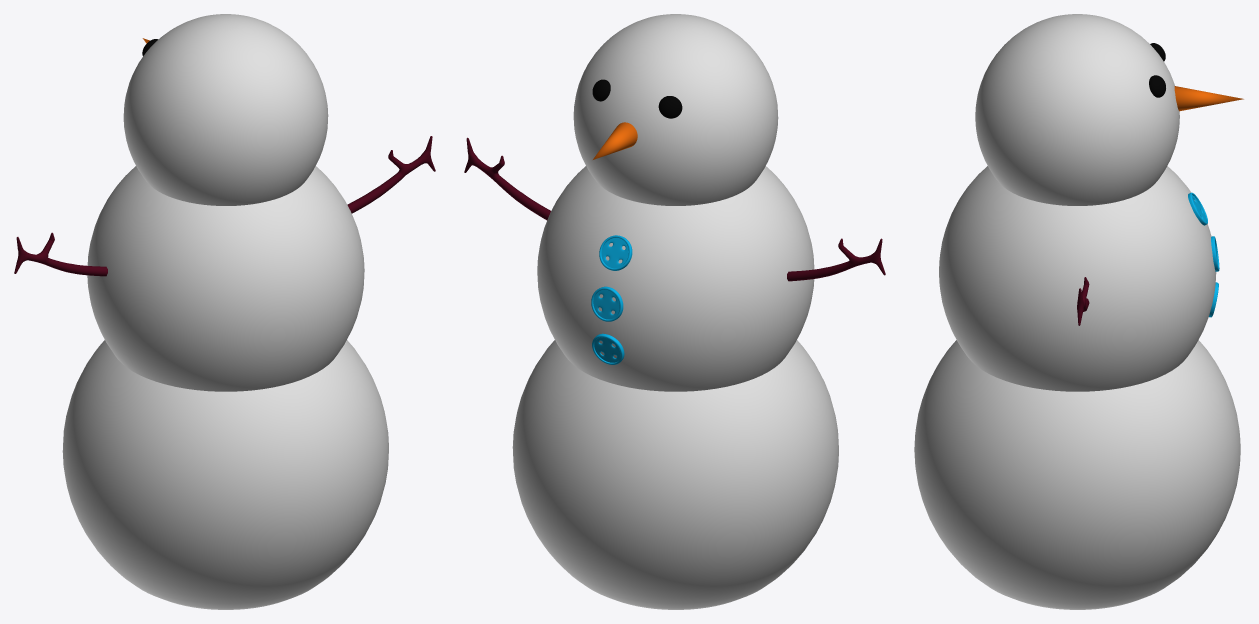
The model's file is SnowmanBase.fbx.
3 renders of one model, left to right at view 1: azimuth 30°, elevation 25°; view 2: azimuth 150°, elevation 25°; view 3: azimuth 270°, elevation 25°, orthographic.
Visible parts, largest first — view 1: Snowman, Vert; view 2: Snowman, Buttons, Vert, Cone; view 3: Snowman, Cone, Buttons.
Boxes of the visible parts, left/top/right/bottom form: Snowman: left=62, top=14, right=388, bottom=609; Vert: left=14, top=136, right=435, bottom=276; Snowman: left=512, top=14, right=838, bottom=609; Buttons: left=591, top=235, right=632, bottom=364; Vert: left=464, top=137, right=885, bottom=281; Cone: left=593, top=122, right=637, bottom=159; Snowman: left=914, top=14, right=1240, bottom=609; Cone: left=1174, top=86, right=1243, bottom=111; Buttons: left=1188, top=192, right=1219, bottom=317.
Size of the model in its own units: 294 by 370 by 200.
